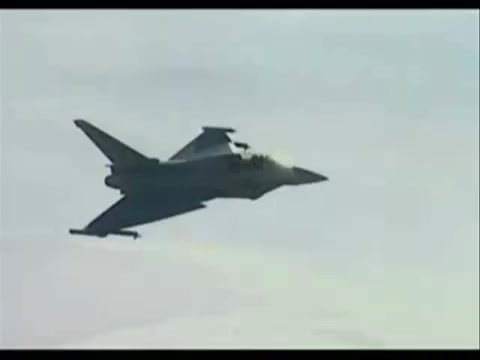aeroplane: (68, 119, 331, 240)
